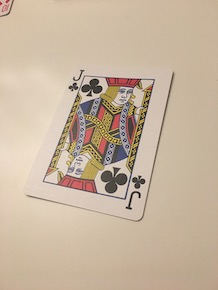JackOfClubs: (19, 62, 182, 224)
